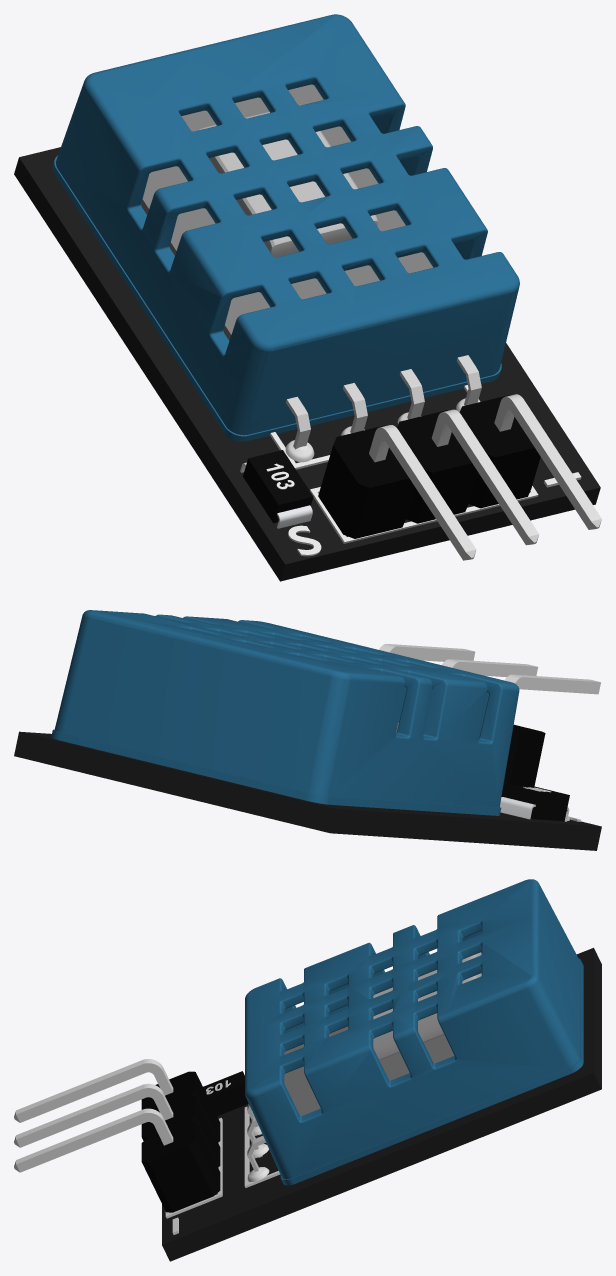
Rendered from 11. HUMID SENSOR.gltf.
3 views of the same model, one above another, from view 1: azimuth 30°, elevation 25°; view 2: azimuth 150°, elevation 25°; view 3: azimuth 270°, elevation 25° (orthographic). The views are drawn at different scales.
Parts seen in each view (by area): view 1: HUMID SENSOR.001; view 2: HUMID SENSOR.001; view 3: HUMID SENSOR.001.
Part boxes in pixels (x1,y1,x2,y2): HUMID SENSOR.001: [14, 14, 601, 581]; HUMID SENSOR.001: [14, 610, 601, 850]; HUMID SENSOR.001: [14, 879, 601, 1261].
Bounding box in the file's own units: 0.0133 × 0.0135 × 0.0265.
